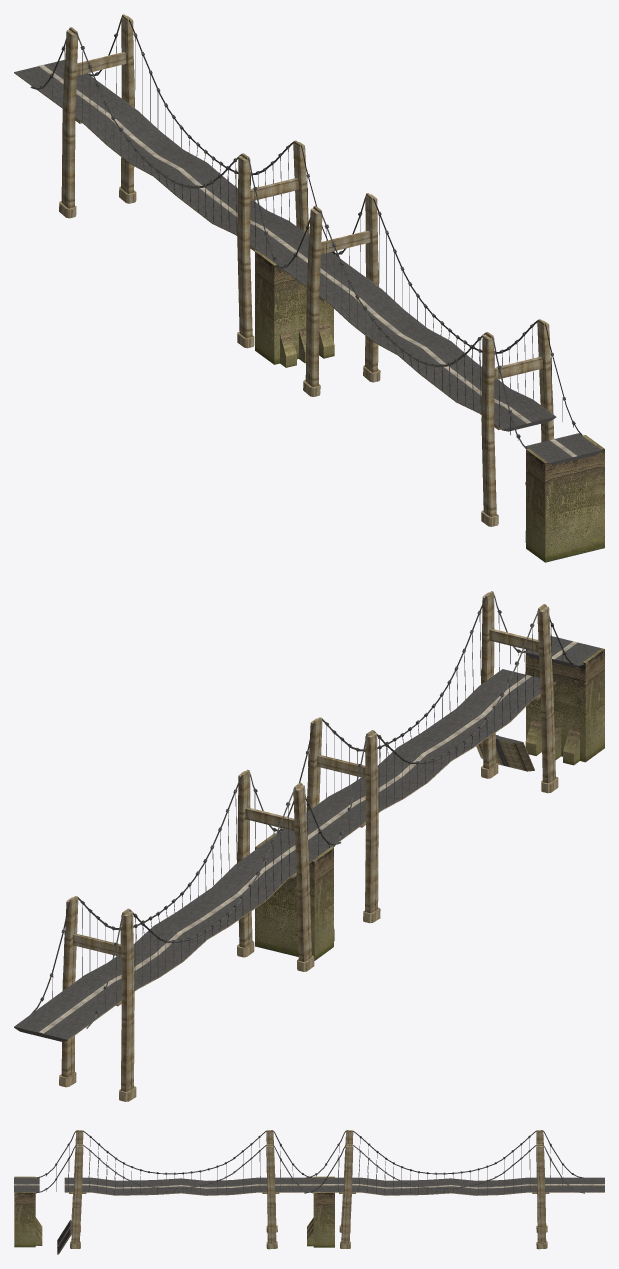
Rendered from big bridge1.FBX.
3 views of the same model, one above another, from view 1: azimuth 30°, elevation 25°; view 2: azimuth 150°, elevation 25°; view 3: azimuth 270°, elevation 25° (orthographic). The views are drawn at different scales.
Parts seen in each view (by area): view 1: Bridge_01; view 2: Bridge_01; view 3: Bridge_01.
Boxes of the visible parts, x1=… form: Bridge_01: x1=14, y1=14, x2=604, y2=562; Bridge_01: x1=14, y1=591, x2=604, y2=1101; Bridge_01: x1=14, y1=1130, x2=604, y2=1254.
Size of the model in its own units: 1052 by 2097 by 10862.
